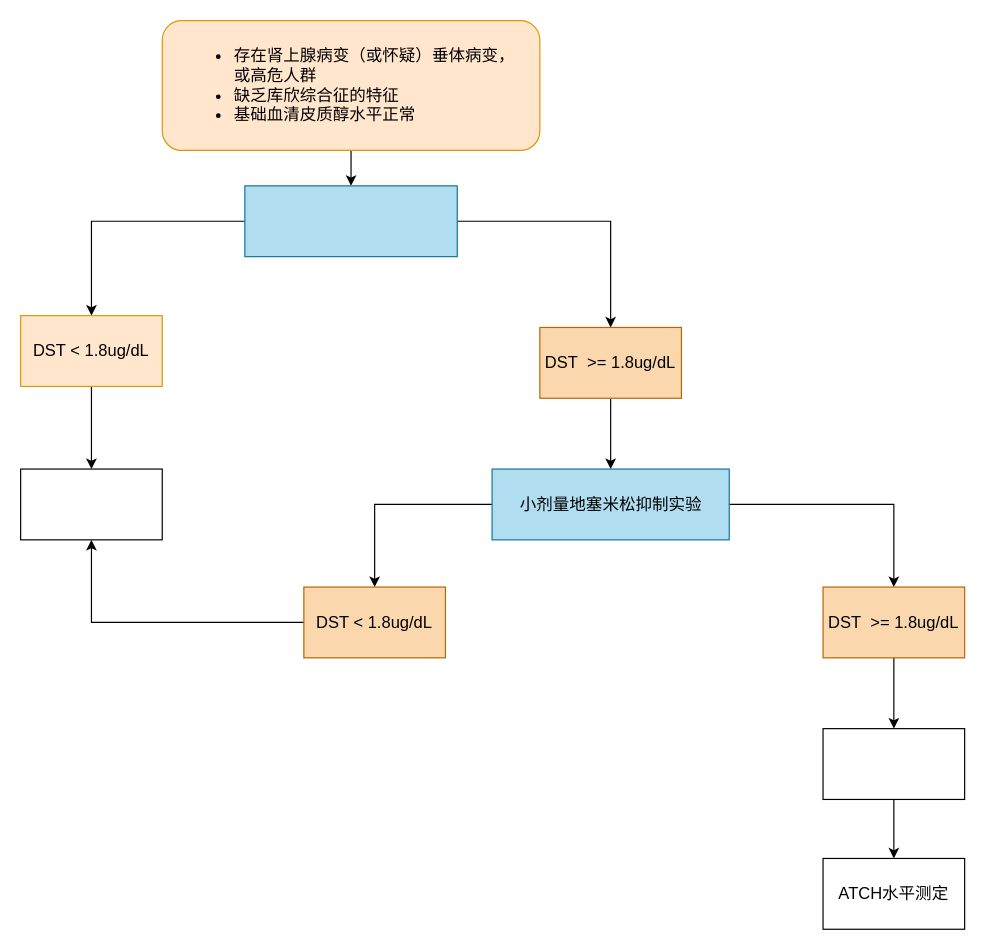
The diagram is 985 pixels wide and 950 high, and some of its shapes have lost their labels. Here are the shapes that lost their labels. From the top down, the centre of each, then its label:
At (350,221): "1mg地塞米松抑制实验".
At (90,504): "排除".
At (893,763): "亚临床库欣综合征".
